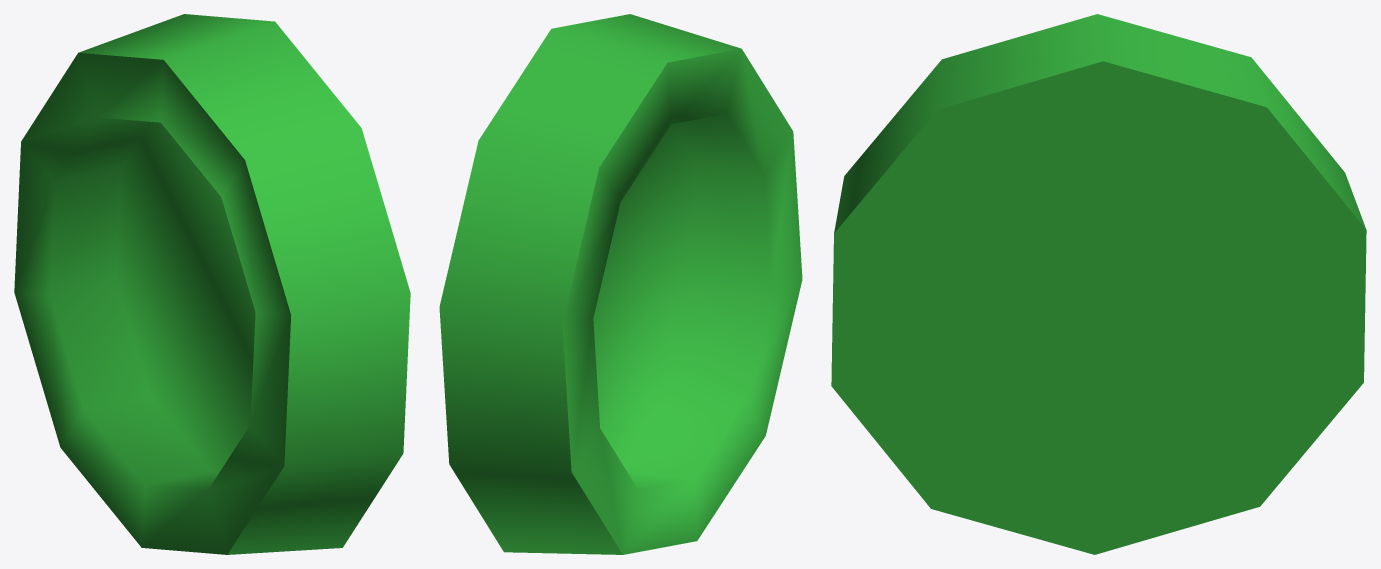
File: Curtain_Metal_Hole.fbx
3 renders of one model, left to right at view 1: azimuth 30°, elevation 25°; view 2: azimuth 150°, elevation 25°; view 3: azimuth 270°, elevation 25°, orthographic.
Parts seen in each view (by area): view 1: Curtain_Metal_Hole; view 2: Curtain_Metal_Hole; view 3: Curtain_Metal_Hole.
Part boxes in pixels (left/top/right/bottom): Curtain_Metal_Hole: left=14, top=14, right=410, bottom=554; Curtain_Metal_Hole: left=439, top=14, right=802, bottom=554; Curtain_Metal_Hole: left=831, top=14, right=1366, bottom=554.
Size of the model in its own units: 1.21 by 4 by 3.83.
